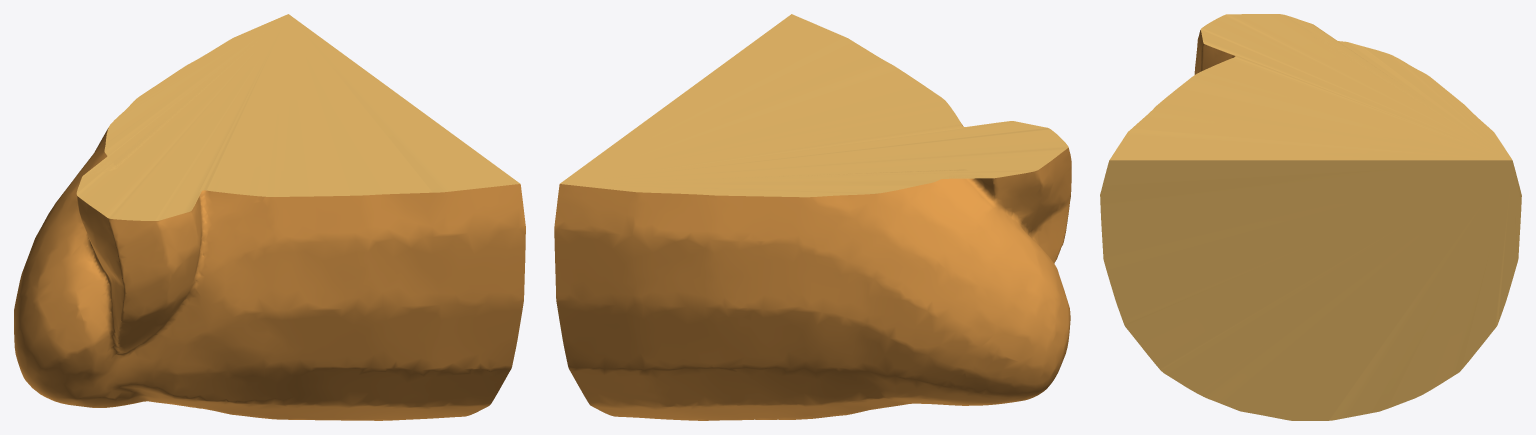
Rendered from Saltena_Piece_01.fbx.
The picture shows the model from 3 angles, left to right: view 1: azimuth 30°, elevation 25°; view 2: azimuth 150°, elevation 25°; view 3: azimuth 270°, elevation 25°; orthographic projection. The views are drawn at different scales.
Visible parts, largest first — view 1: Saltena_Piece_01; view 2: Saltena_Piece_01; view 3: Saltena_Piece_01.
Boxes of the visible parts, x1,y1,x2,y2 form: Saltena_Piece_01: [14, 14, 525, 420]; Saltena_Piece_01: [554, 14, 1071, 420]; Saltena_Piece_01: [1100, 14, 1521, 420].
Bounding box in the file's own units: 48.33 × 36.07 × 52.91.
